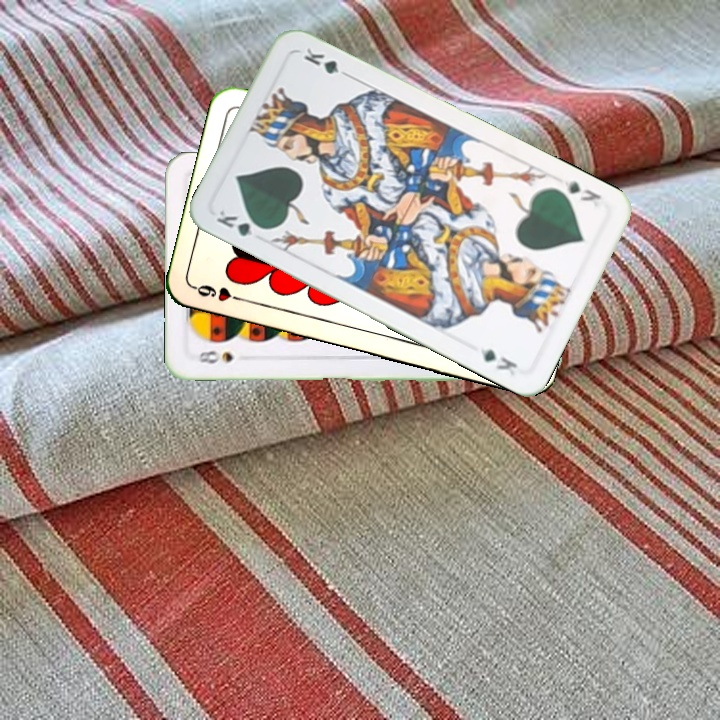GK: (212, 206, 269, 241), (559, 176, 604, 204)
H9: (190, 281, 248, 305)
S8: (194, 346, 235, 366)
